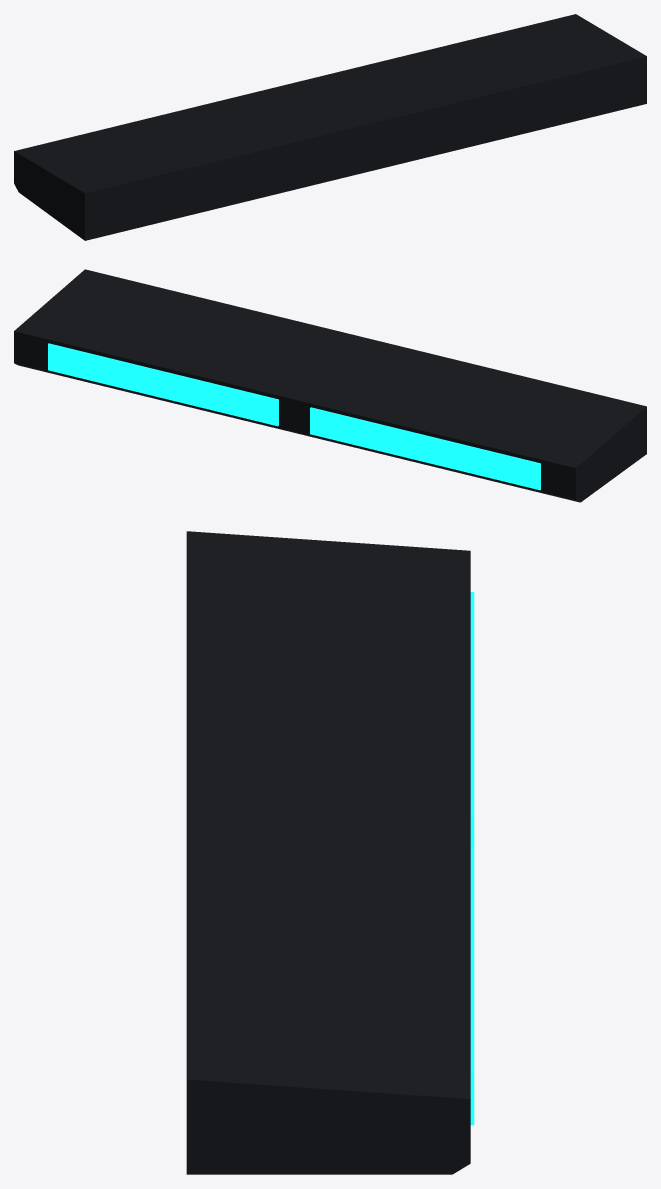
Rendered from visor_split_bars.glb.
The picture shows the model from 3 angles, top to bottom: view 1: azimuth 30°, elevation 25°; view 2: azimuth 150°, elevation 25°; view 3: azimuth 270°, elevation 25°; orthographic projection. The views are drawn at different scales.
Visible parts, largest first — view 1: visor_split_bars_deco_body; view 2: visor_split_bars_deco_body, visor_split_bars_deco_neon; view 3: visor_split_bars_deco_body, visor_split_bars_deco_neon.
Boxes of the visible parts, x1,y1,x2,y2 form: visor_split_bars_deco_body: [14, 14, 646, 240]; visor_split_bars_deco_body: [14, 269, 646, 502]; visor_split_bars_deco_neon: [48, 343, 540, 490]; visor_split_bars_deco_body: [186, 531, 470, 1174]; visor_split_bars_deco_neon: [470, 592, 474, 1125].
Size of the model in its own units: 2.1 by 0.17 by 0.466.
